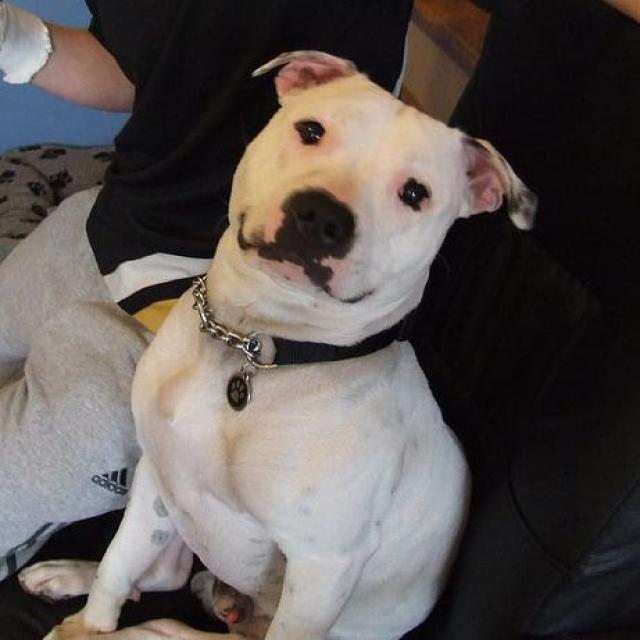staffordshire_bullterrier: (17, 48, 537, 638)
